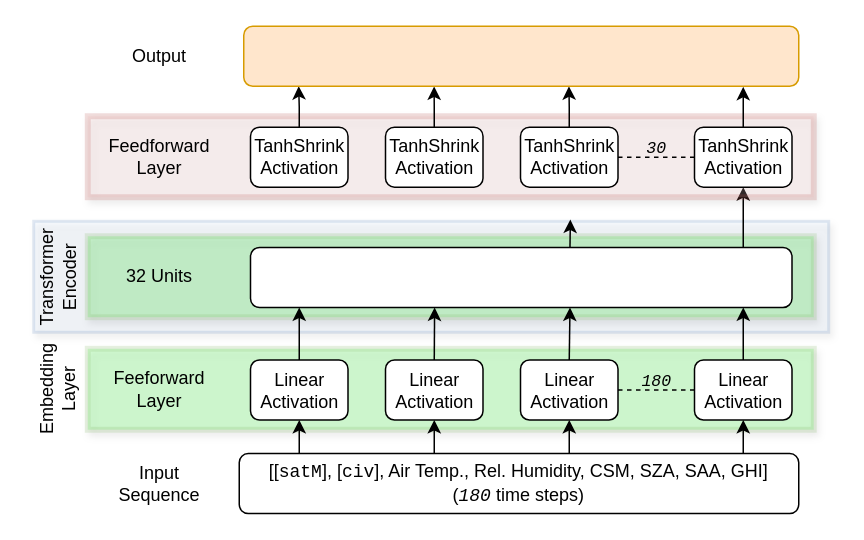
This 864x540 diagram has some shape labels left out. The shapes that lost their labels are listed below. From the top down, each one's centre as x and y in pixels, then its label:
the point at 520,55: GHI Prediction ( 30 time steps)
the point at 520,277: Multi-head Attention-based Transformer Encoder Backbone
